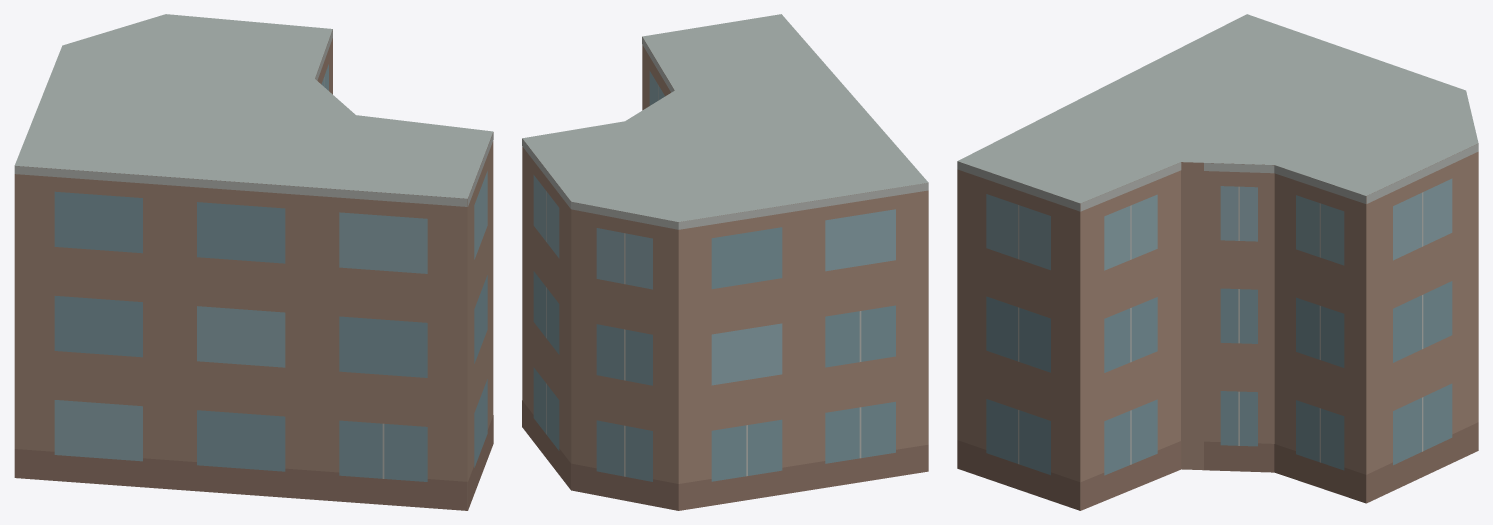
File: survey-upis-32700858.glb
3 views of the same model, side by side, from view 1: azimuth 30°, elevation 25°; view 2: azimuth 150°, elevation 25°; view 3: azimuth 270°, elevation 25° (orthographic). The views are drawn at different scales.
Parts seen in each view (by area): view 1: survey-upis-32700858.tmp; view 2: survey-upis-32700858.tmp; view 3: survey-upis-32700858.tmp.
Part boxes in pixels (x1,y1,x2,y2): survey-upis-32700858.tmp: (14, 14, 493, 510); survey-upis-32700858.tmp: (522, 14, 928, 510); survey-upis-32700858.tmp: (957, 14, 1478, 510).
Size of the model in its own units: 12.11 by 9.15 by 14.07.
